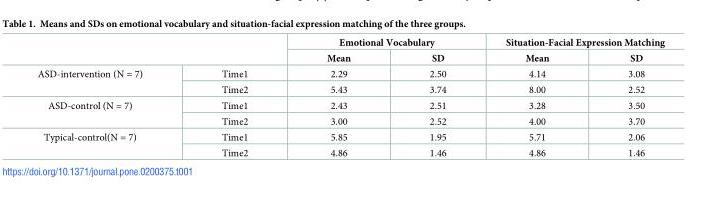table: (36, 37, 663, 157)
table column: (36, 37, 181, 157), (475, 37, 587, 157), (181, 37, 286, 157), (286, 37, 389, 157), (389, 37, 475, 157), (587, 37, 663, 157)
table column header: (36, 37, 663, 65)
table row: (36, 65, 663, 81), (36, 81, 663, 97), (36, 97, 663, 113), (36, 113, 663, 129), (36, 50, 663, 65), (36, 129, 663, 144), (36, 37, 663, 50), (36, 144, 663, 157)
table spanning cell: (36, 65, 181, 97), (36, 97, 181, 129), (36, 129, 181, 157), (286, 37, 475, 50), (475, 37, 663, 50)
